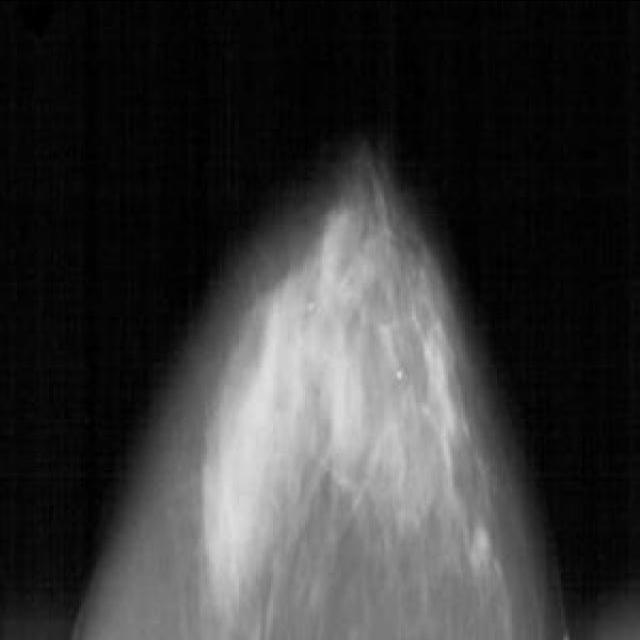tumor: (190, 288, 320, 574), (344, 294, 460, 424)
